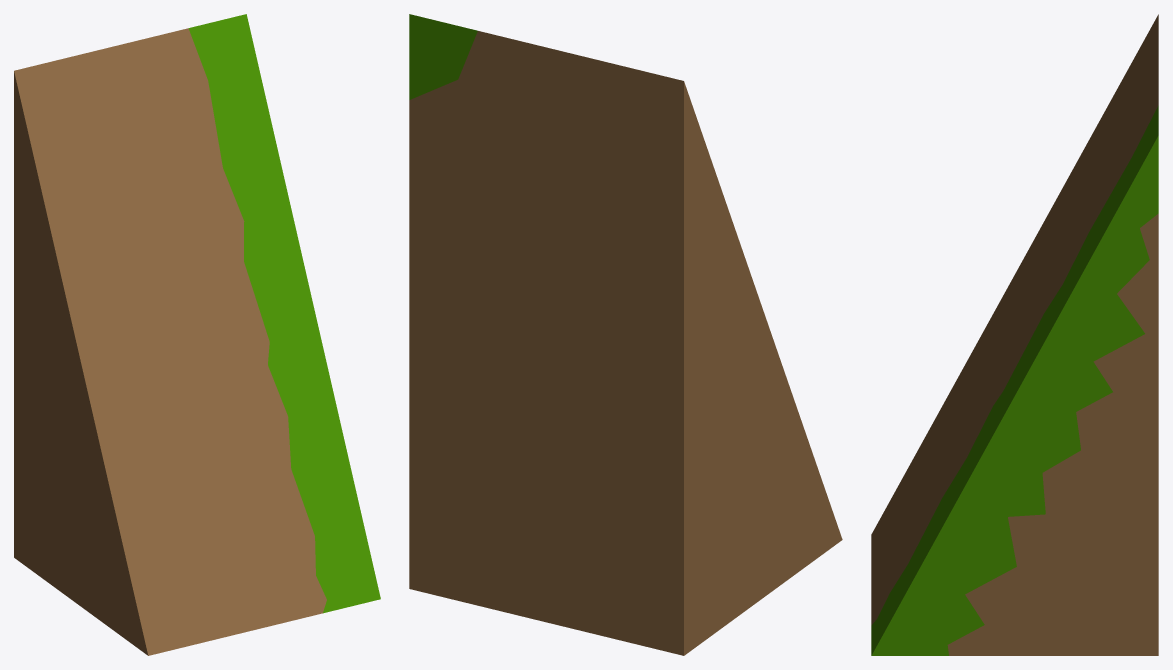
Rendered from RPG_Tiles_Square_Covered_Path_Edge_Right_Ramp_Double_01.FBX.
The picture shows the model from 3 angles, left to right: view 1: azimuth 30°, elevation 25°; view 2: azimuth 150°, elevation 25°; view 3: azimuth 270°, elevation 25°; orthographic projection. The views are drawn at different scales.
Visible parts, largest first — view 1: RPG_Tiles_Square_Covered_Path_Edge_Right_Ramp_Double_01; view 2: RPG_Tiles_Square_Covered_Path_Edge_Right_Ramp_Double_01; view 3: RPG_Tiles_Square_Covered_Path_Edge_Right_Ramp_Double_01.
Part boxes in pixels (bbox=[...]): RPG_Tiles_Square_Covered_Path_Edge_Right_Ramp_Double_01: bbox=[14, 14, 380, 655]; RPG_Tiles_Square_Covered_Path_Edge_Right_Ramp_Double_01: bbox=[409, 14, 842, 655]; RPG_Tiles_Square_Covered_Path_Edge_Right_Ramp_Double_01: bbox=[871, 14, 1158, 655].
Size of the model in its own units: 3000 by 6000 by 3000.
